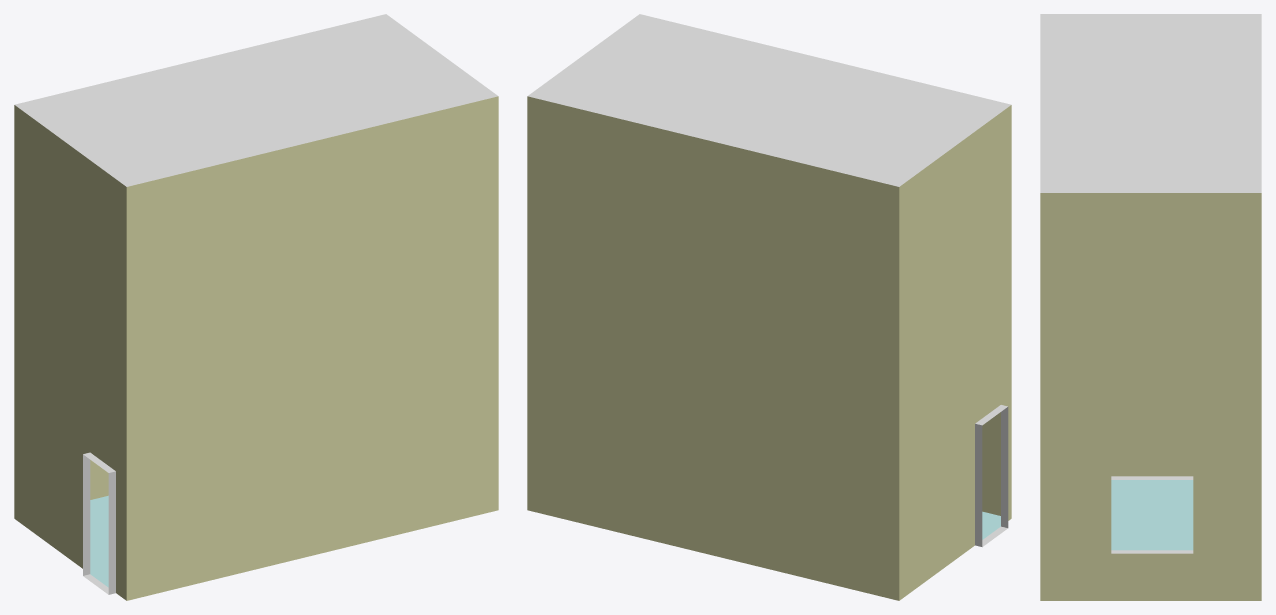
File: BathroomRoom_mar13_1.fbx
3 renders of one model, left to right at view 1: azimuth 30°, elevation 25°; view 2: azimuth 150°, elevation 25°; view 3: azimuth 270°, elevation 25°, orthographic.
Visible parts, largest first — view 1: polySurface167; view 2: polySurface167; view 3: polySurface167.
Boxes of the visible parts, x1,y1,x2,y2 form: polySurface167: (14, 14, 498, 600); polySurface167: (527, 14, 1011, 600); polySurface167: (1040, 14, 1261, 600).
Bounding box in the file's own units: 658 × 674 × 332.
